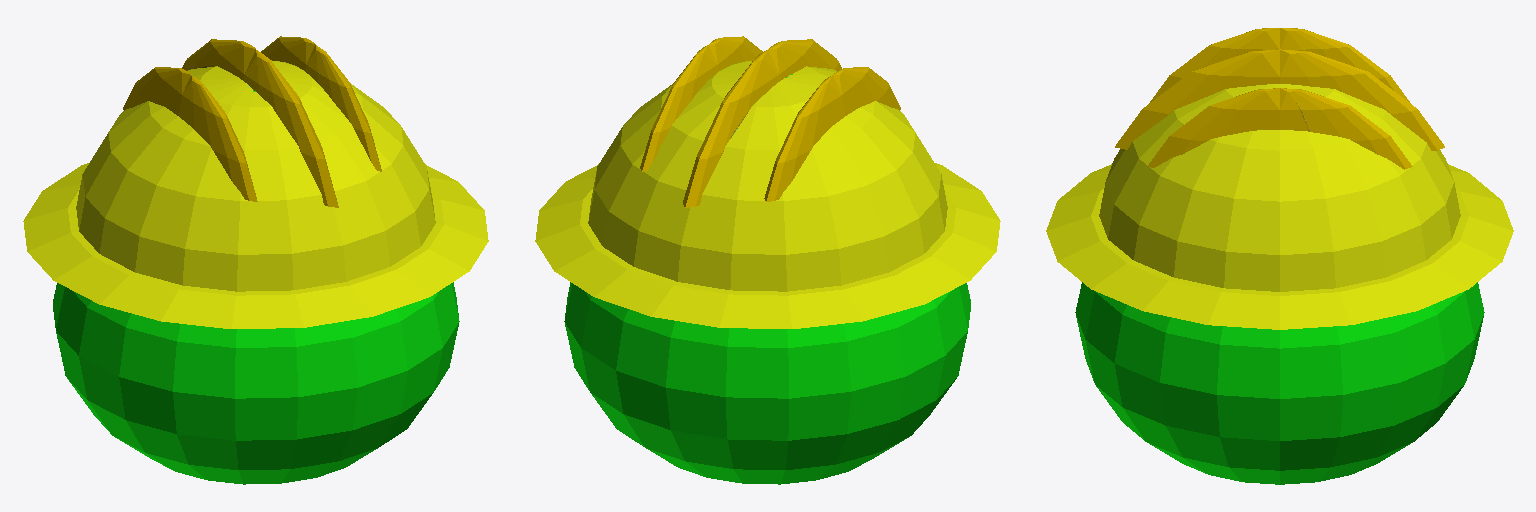
The picture shows the model from 3 angles: view 1: azimuth 30°, elevation 25°; view 2: azimuth 150°, elevation 25°; view 3: azimuth 270°, elevation 25°; orthographic projection.
Parts seen in each view (by area): view 1: pSphere8; view 2: pSphere8; view 3: pSphere8.
Part boxes in pixels (bbox=[...]): pSphere8: bbox=[23, 36, 488, 484]; pSphere8: bbox=[535, 36, 1000, 484]; pSphere8: bbox=[1046, 28, 1513, 484].
Bounding box in the file's own units: 2.29 × 2.23 × 2.29.
Materials: 1 (1 with a texture image).